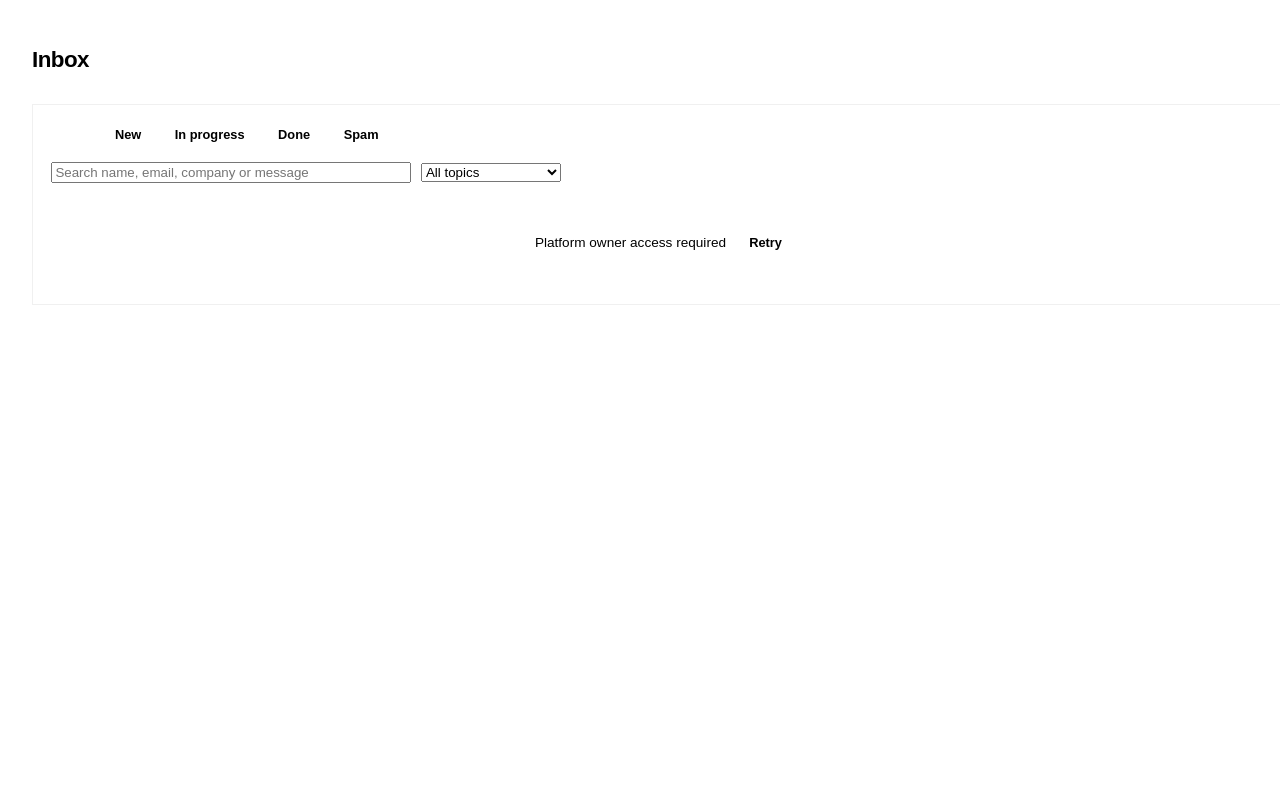
Test: PlatformInboxPage: filters › shows the failure and loads again on request
expect the message shows "Platform owner access required": met, box [535,235,726,250]
Step 1. Click the button "Retry" → (766, 242), box [738,230,793,255]
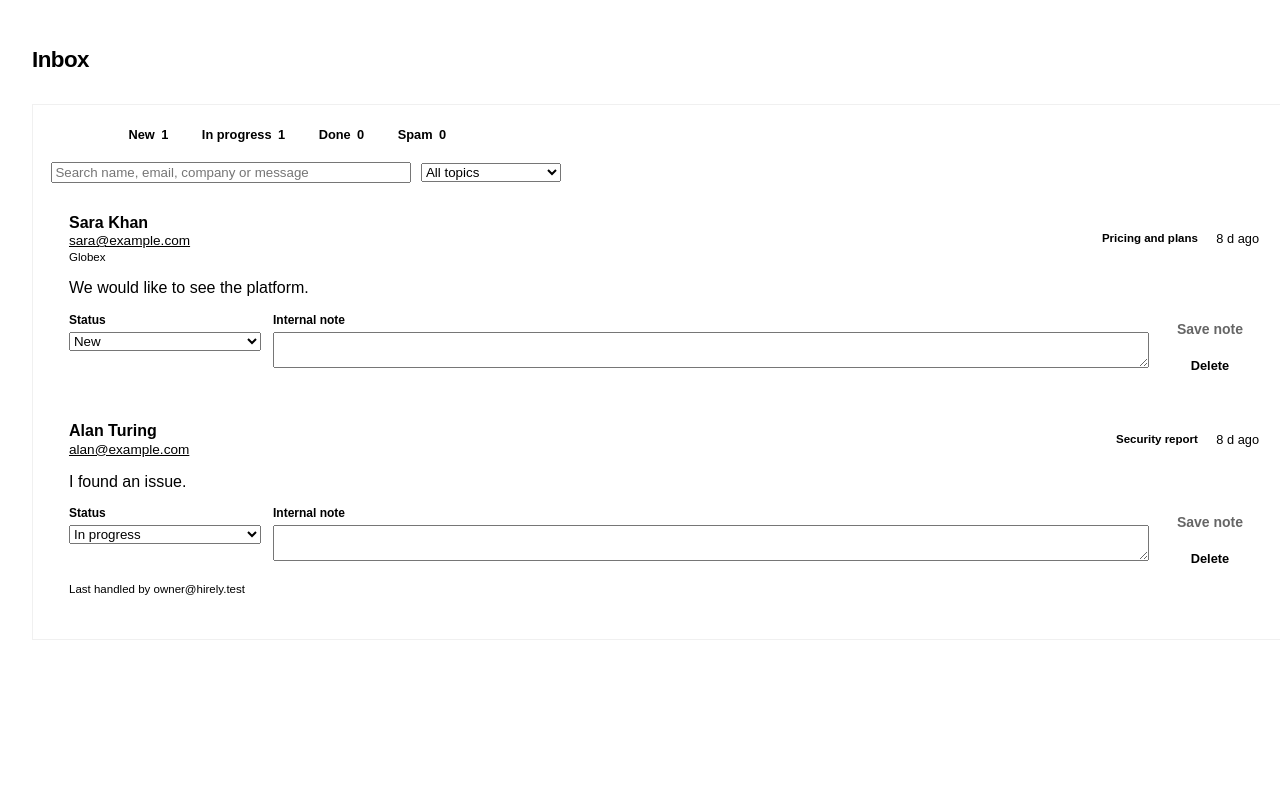
expect the text "Sara Khan" is shown: met, box [69,214,148,230]
